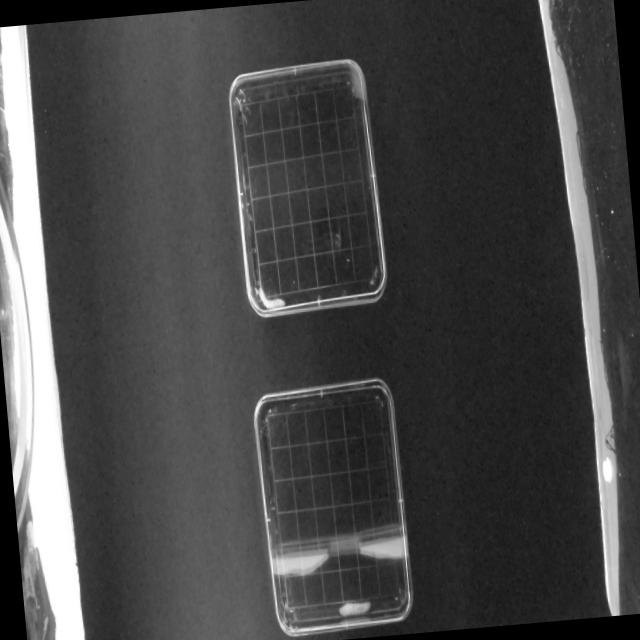larva: (338, 598, 374, 620), (257, 286, 286, 310)
